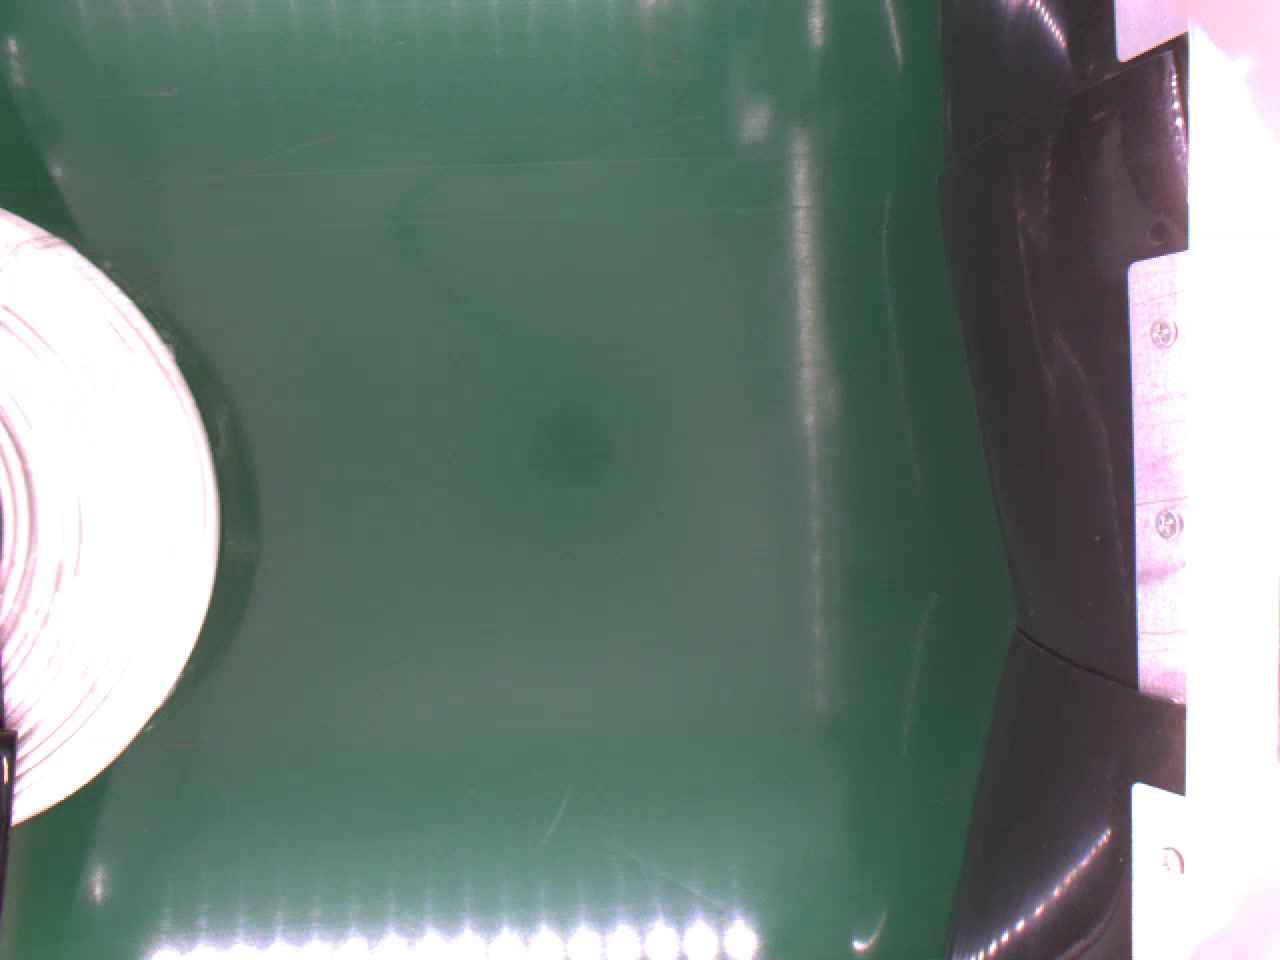white: (0, 209, 225, 819)
